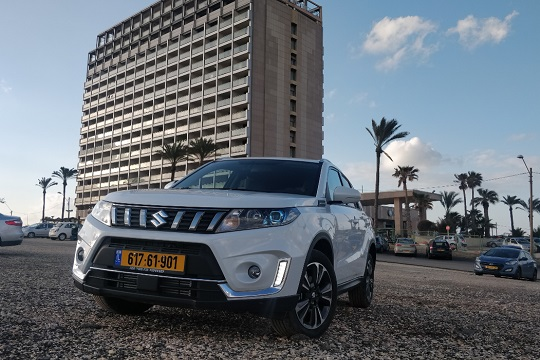licence: (113, 247, 187, 274)
